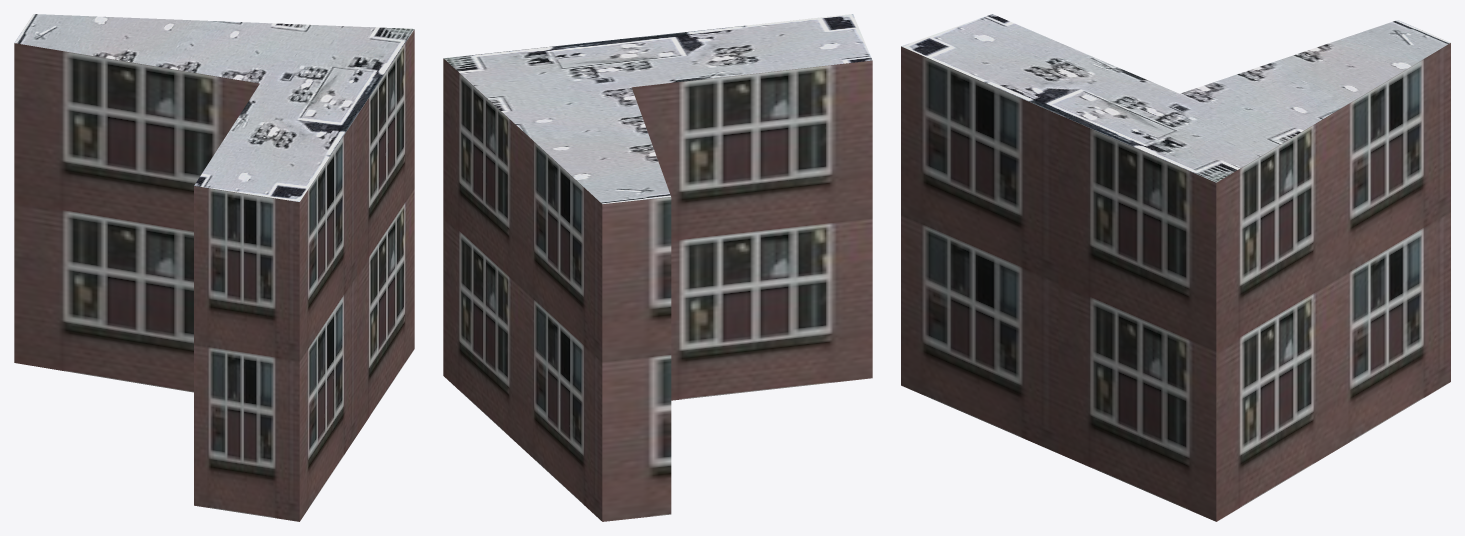
The model's file is ResTex__3517.fbx.
3 views of the same model, side by side, from view 1: azimuth 30°, elevation 25°; view 2: azimuth 150°, elevation 25°; view 3: azimuth 270°, elevation 25° (orthographic). The views are drawn at different scales.
Visible parts, largest first — view 1: CityEngineMaterial_12_m, CityEngineMaterial_8_m; view 2: CityEngineMaterial_12_m, CityEngineMaterial_8_m; view 3: CityEngineMaterial_12_m, CityEngineMaterial_8_m.
Part boxes in pixels (x1,y1,x2,y2): CityEngineMaterial_12_m: (14, 29, 414, 521); CityEngineMaterial_8_m: (14, 14, 414, 201); CityEngineMaterial_12_m: (443, 58, 872, 521); CityEngineMaterial_8_m: (444, 14, 872, 204); CityEngineMaterial_12_m: (901, 43, 1450, 521); CityEngineMaterial_8_m: (901, 14, 1450, 182).
Size of the model in its own units: 6.41 by 6 by 8.82.
Materials: 2 (2 with a texture image).
